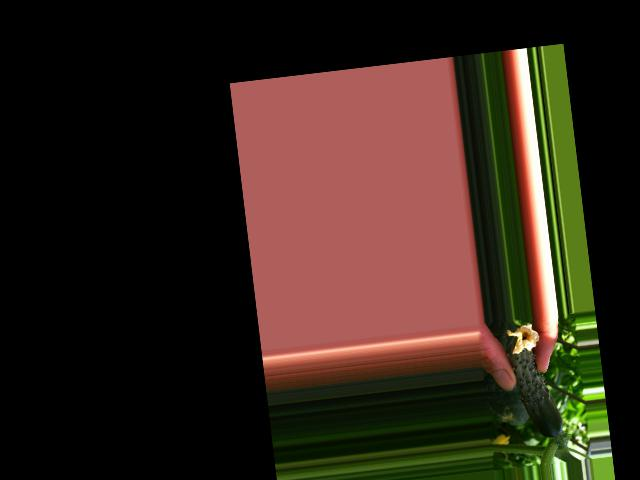cucumber: (506, 322, 563, 441)
